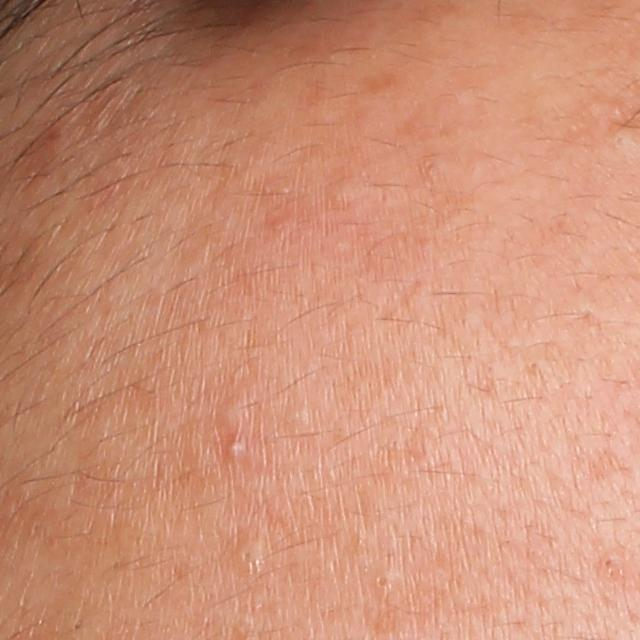comedo: (220, 397, 253, 430), (232, 541, 266, 571), (324, 179, 359, 208), (608, 128, 637, 150), (368, 569, 395, 592), (596, 550, 620, 574)
